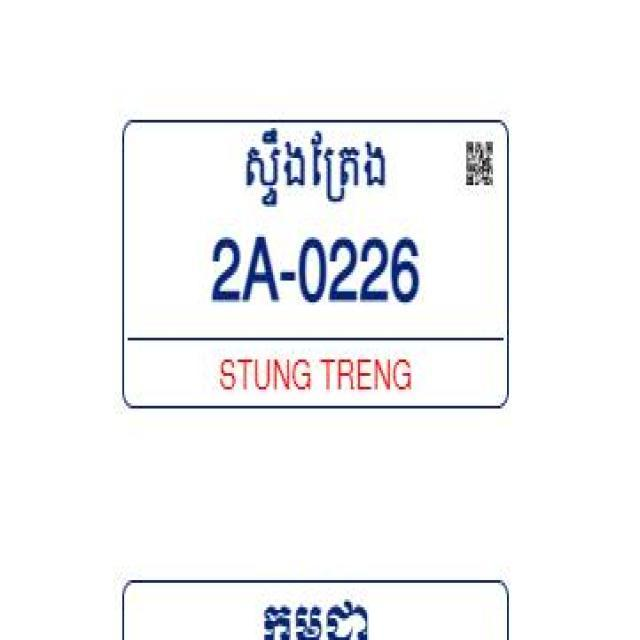Stung_Treng: (239, 126, 390, 212)
